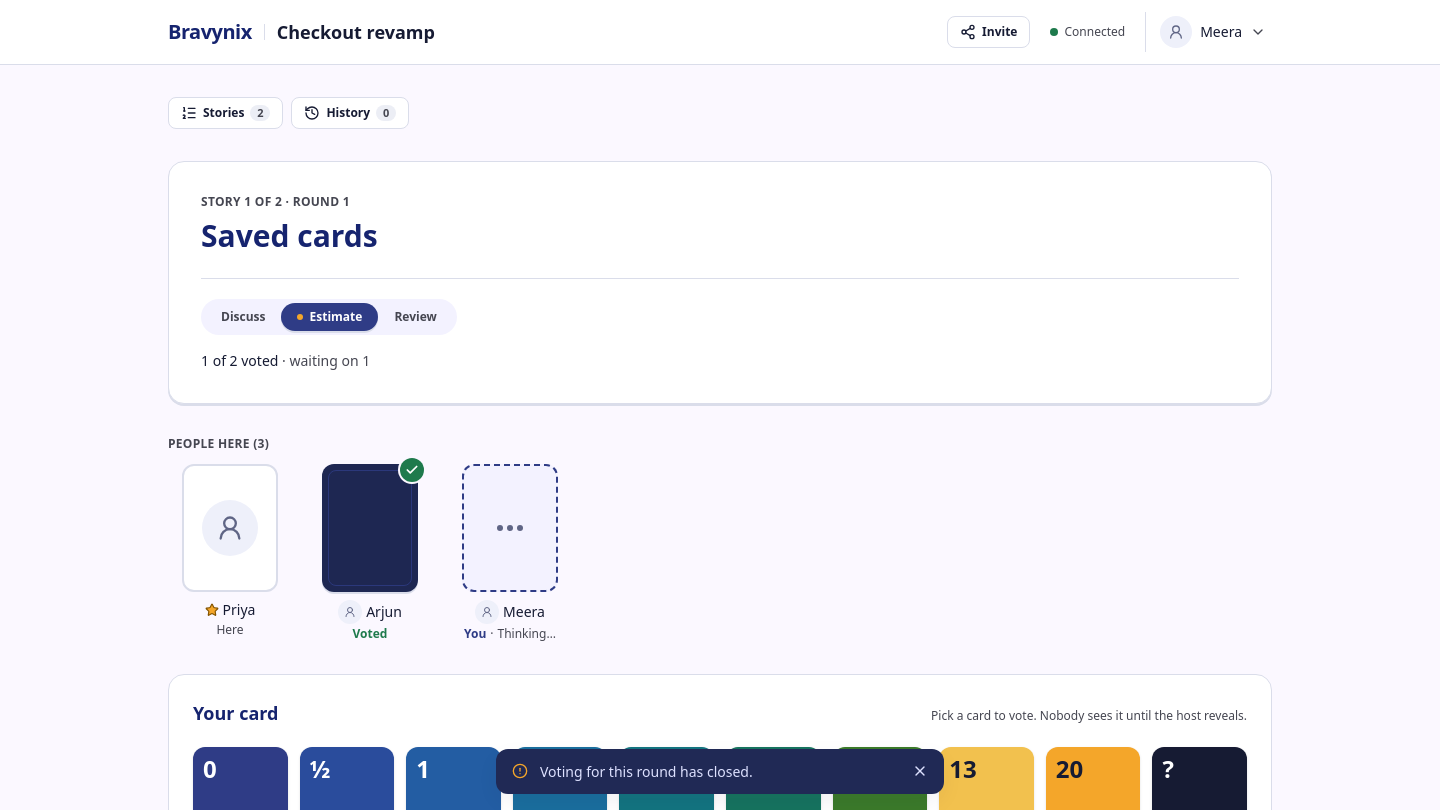
Test: RoomWorkspace › says why an action was refused (PRD 8.7, FR-056)
Expected: the message reads "Voting for this round has closed.", left=540, top=762, right=753, bottom=781
Click the button named "Dismiss" at (920, 771), box left=904, top=755, right=936, bottom=787
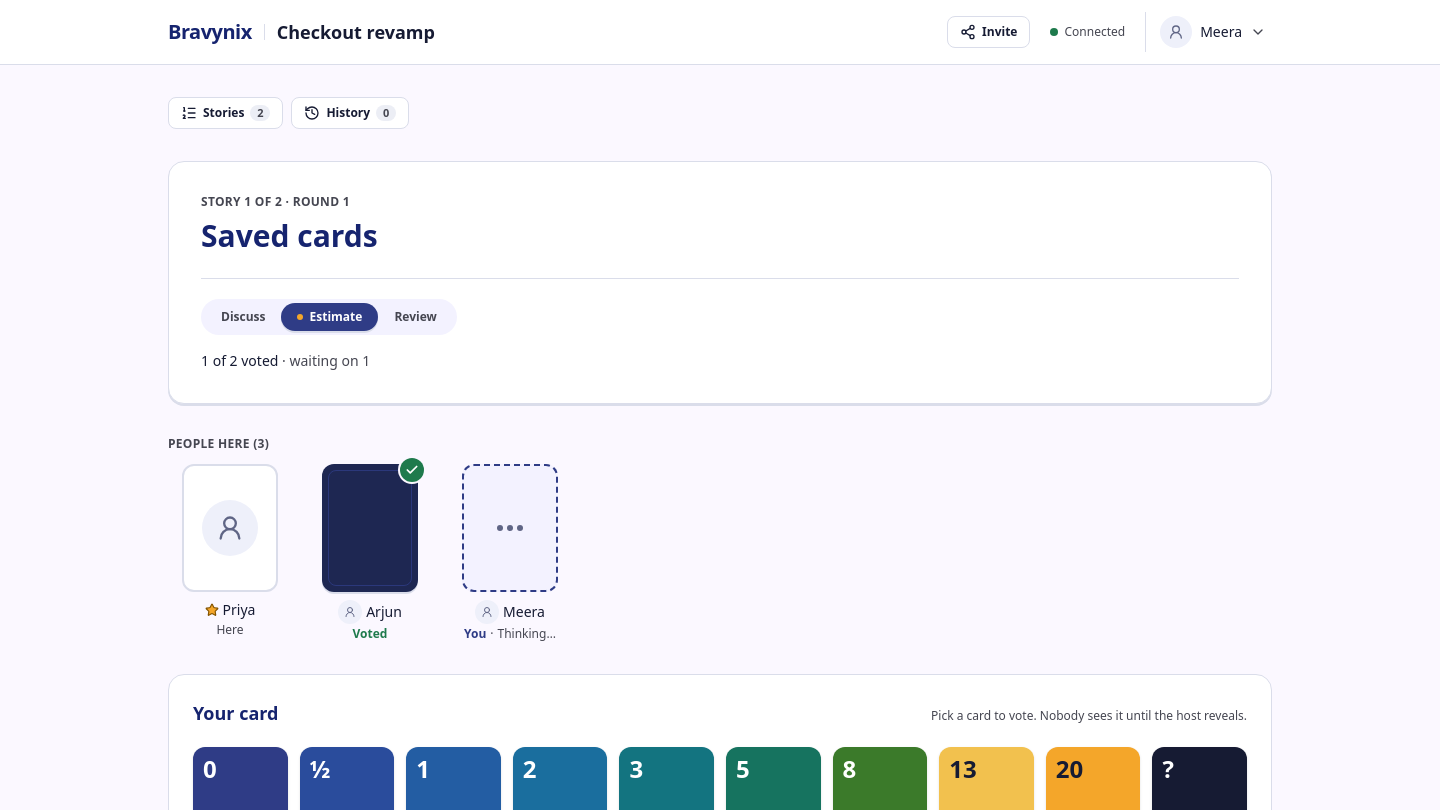
Expected: the message "Voting for this round has closed." is gone
